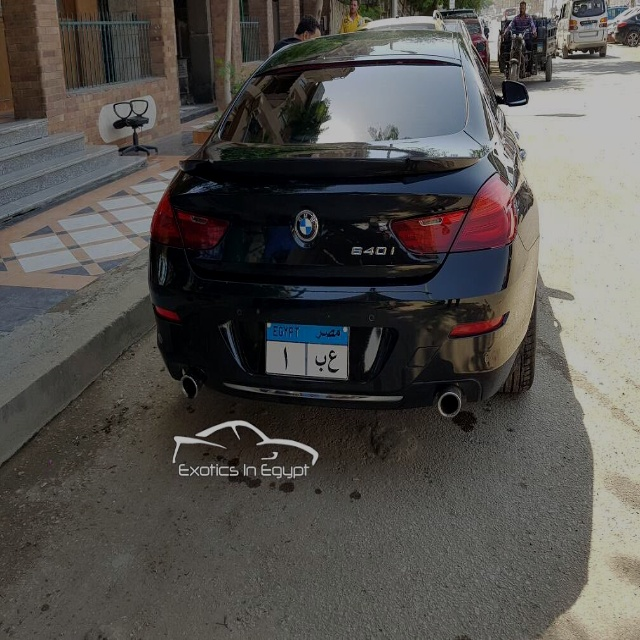License Plate: (263, 320, 352, 383)
